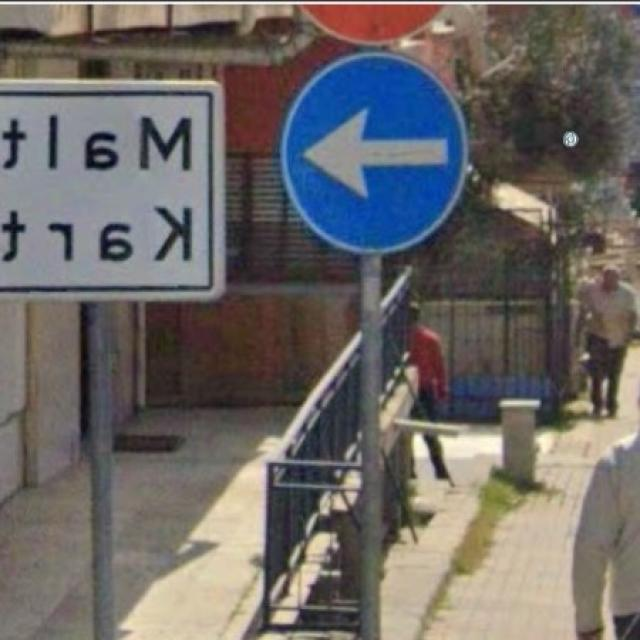Turn Left: (283, 48, 469, 256)
